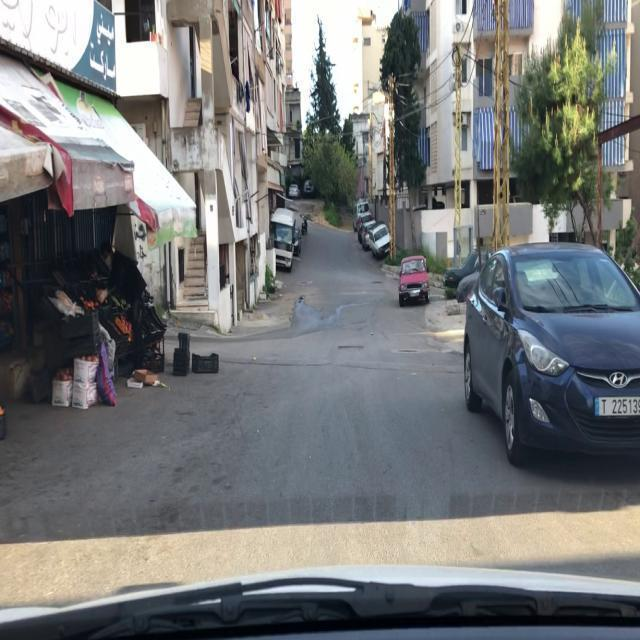pothole: (338, 344, 365, 352)
